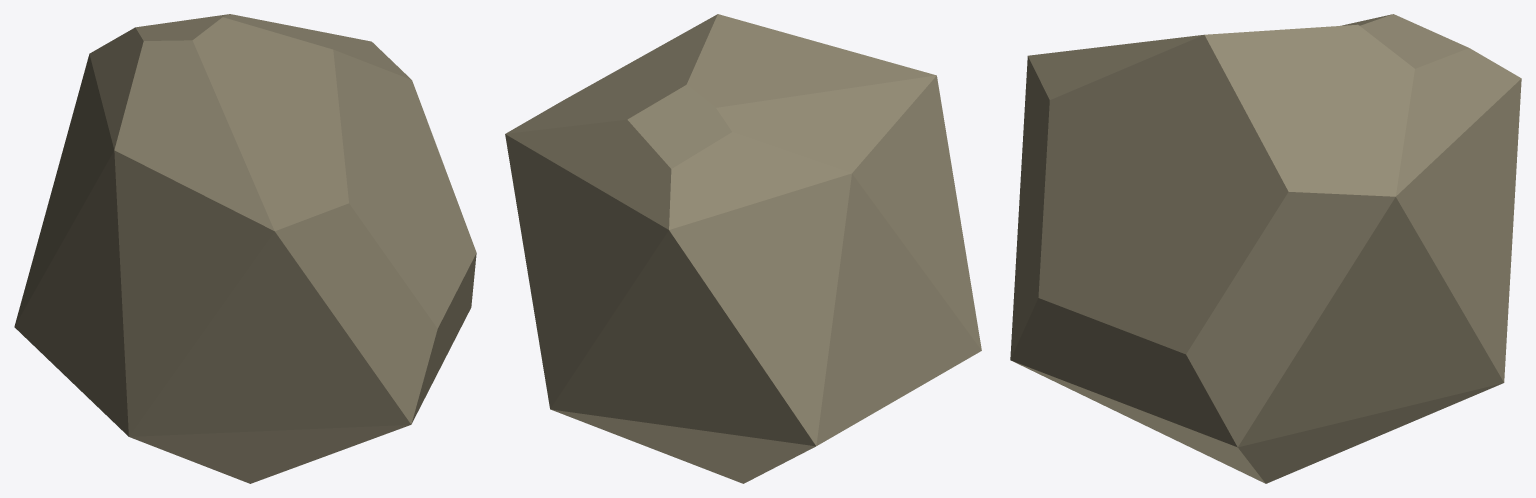
Rendered from Stone3.fbx.
The picture shows the model from 3 angles, left to right: view 1: azimuth 30°, elevation 25°; view 2: azimuth 150°, elevation 25°; view 3: azimuth 270°, elevation 25°; orthographic projection. The views are drawn at different scales.
Parts seen in each view (by area): view 1: Icosphere.004; view 2: Icosphere.004; view 3: Icosphere.004.
Boxes of the visible parts, left/top/right/bottom form: Icosphere.004: left=14, top=14, right=476, bottom=483; Icosphere.004: left=505, top=14, right=981, bottom=483; Icosphere.004: left=1010, top=14, right=1521, bottom=483.
Bounding box in the file's own units: 221 × 240 × 232.
